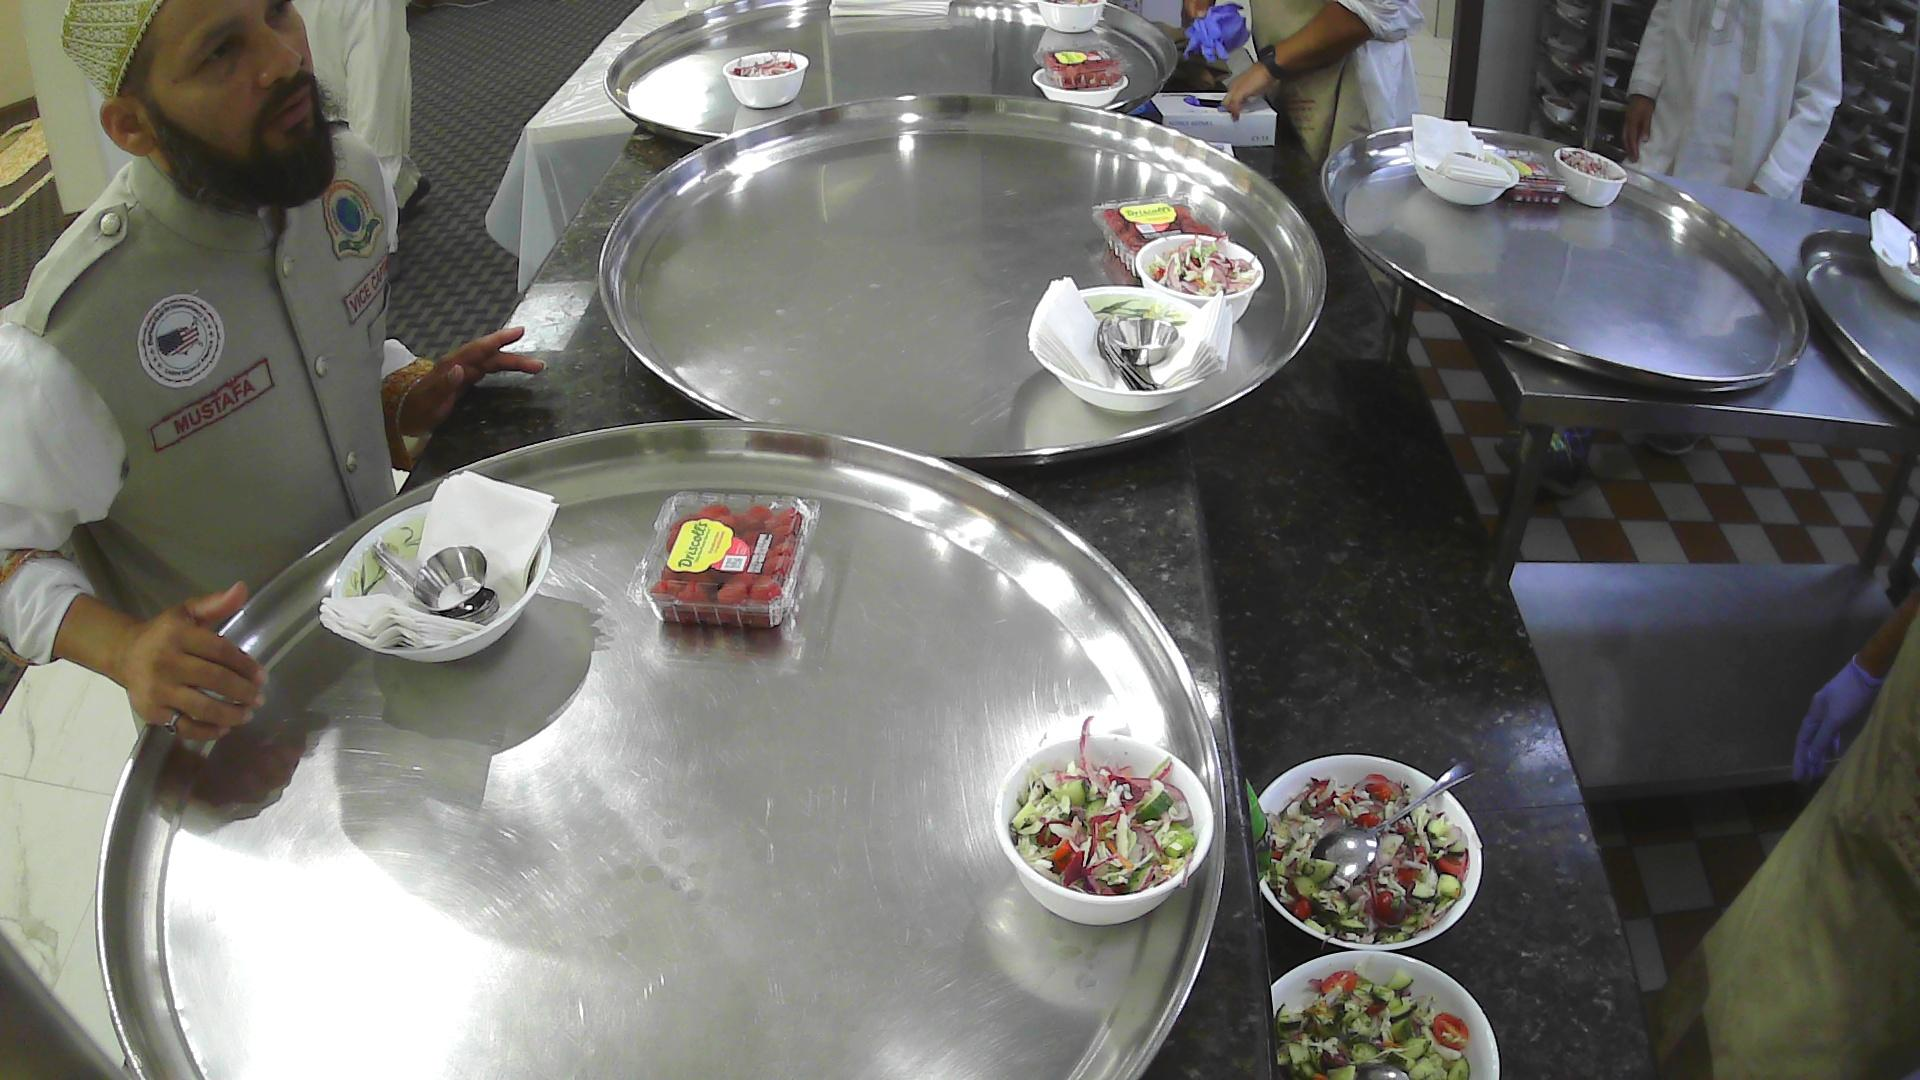thaal: (91, 415, 1240, 1080), (592, 90, 1336, 476), (1313, 113, 1811, 411), (603, 0, 1179, 154), (1793, 220, 1920, 442)
